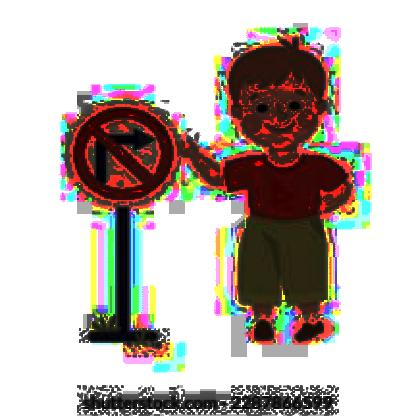No right turn: (63, 101, 172, 200)
